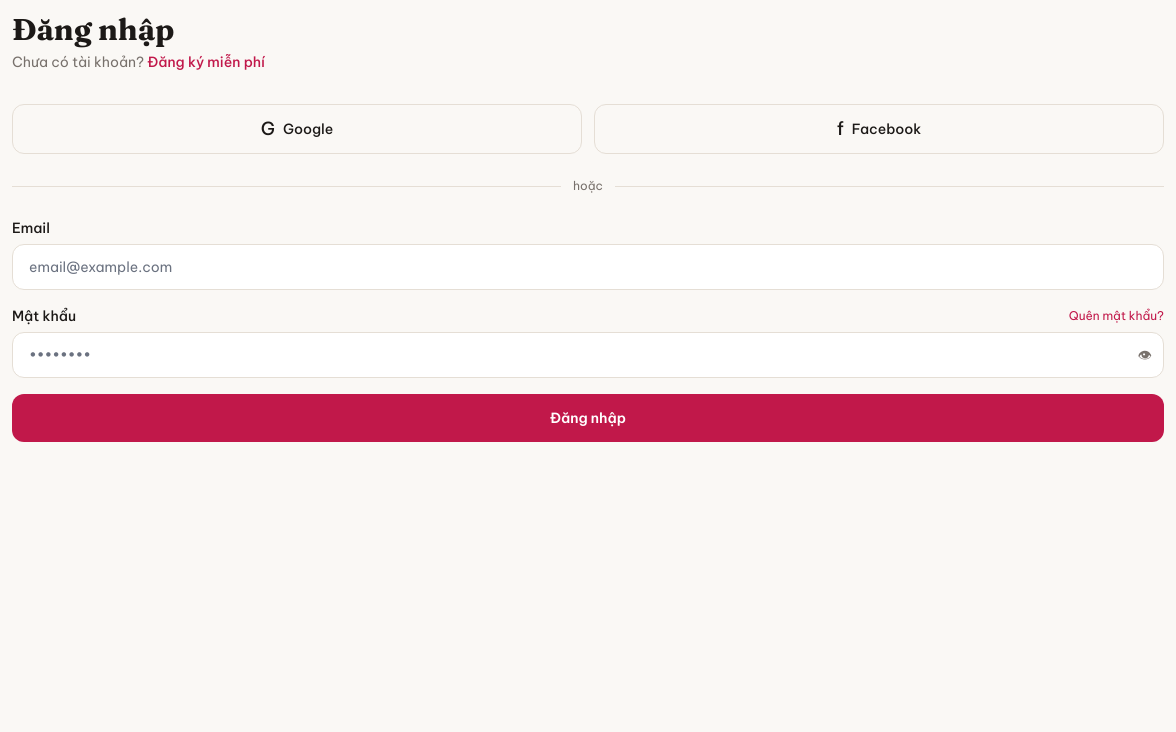
Test: LoginPage.vue › displays backend error message for incorrect password (401)
Type "test@example.com" into the field labelled "Email" at (588,267), box [12,244,1164,290]
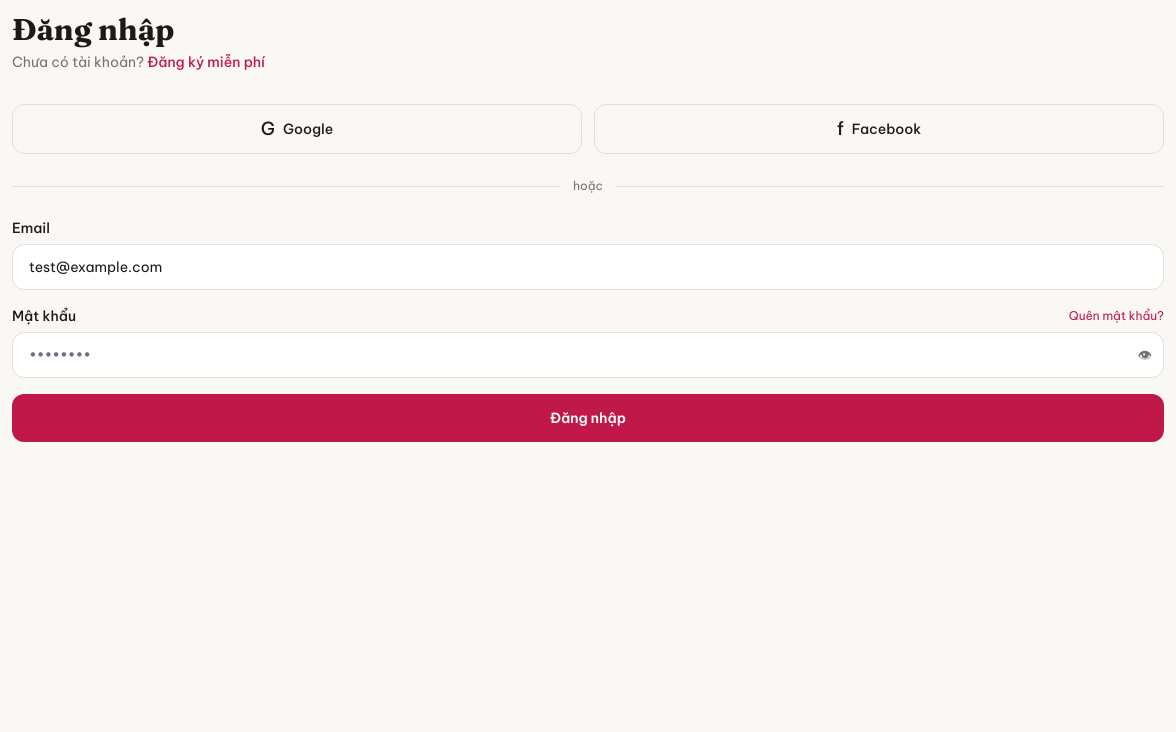
Type "password123" into the password field labelled "Mật khẩu" at (588,355), box [12,332,1164,378]
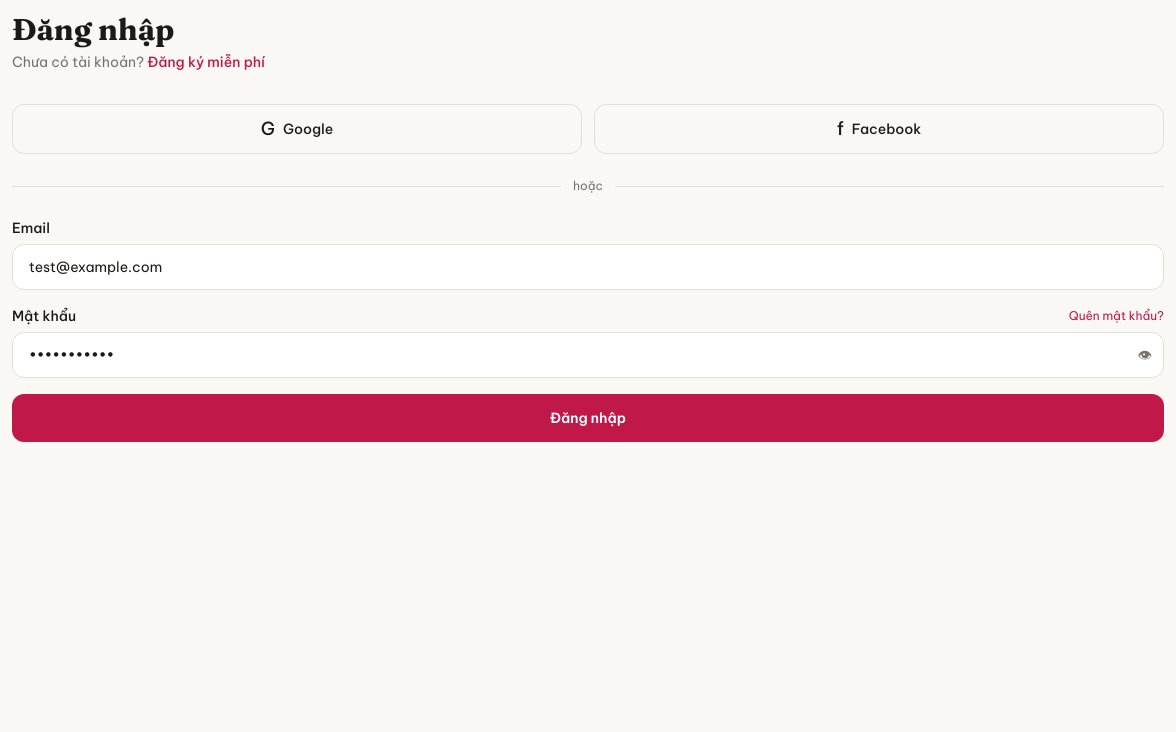
Submit the form, box [12,218,1164,442]
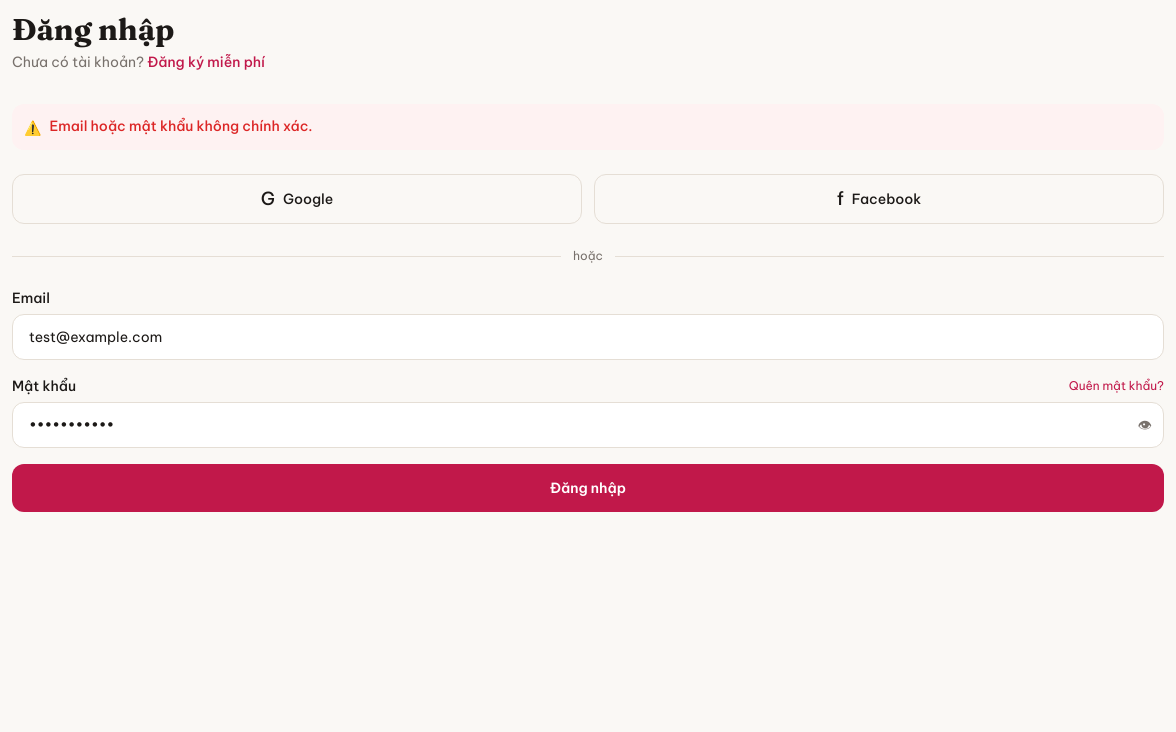
Expected: the text "Email hoặc mật khẩu không chính xác." is shown, [50,116,313,136]
